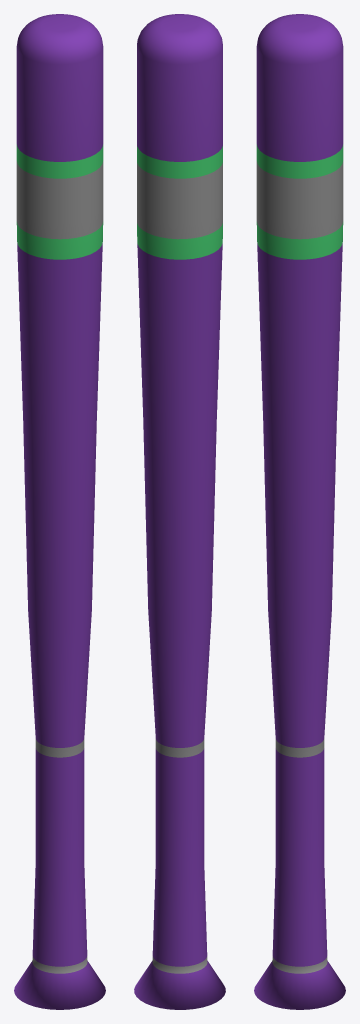
Rendered from BuntBat.fbx.
3 renders of one model, left to right at view 1: azimuth 90°, elevation 25°; view 2: azimuth 210°, elevation 25°; view 3: azimuth 270°, elevation 25°, orthographic.
Parts seen in each view (by area): view 1: Circle; view 2: Circle; view 3: Circle.
Part boxes in pixels (bbox=[...]): Circle: bbox=[14, 14, 105, 1009]; Circle: bbox=[134, 14, 225, 1009]; Circle: bbox=[254, 14, 345, 1009].
Bounding box in the file's own units: 4.79 × 55.54 × 4.79.
